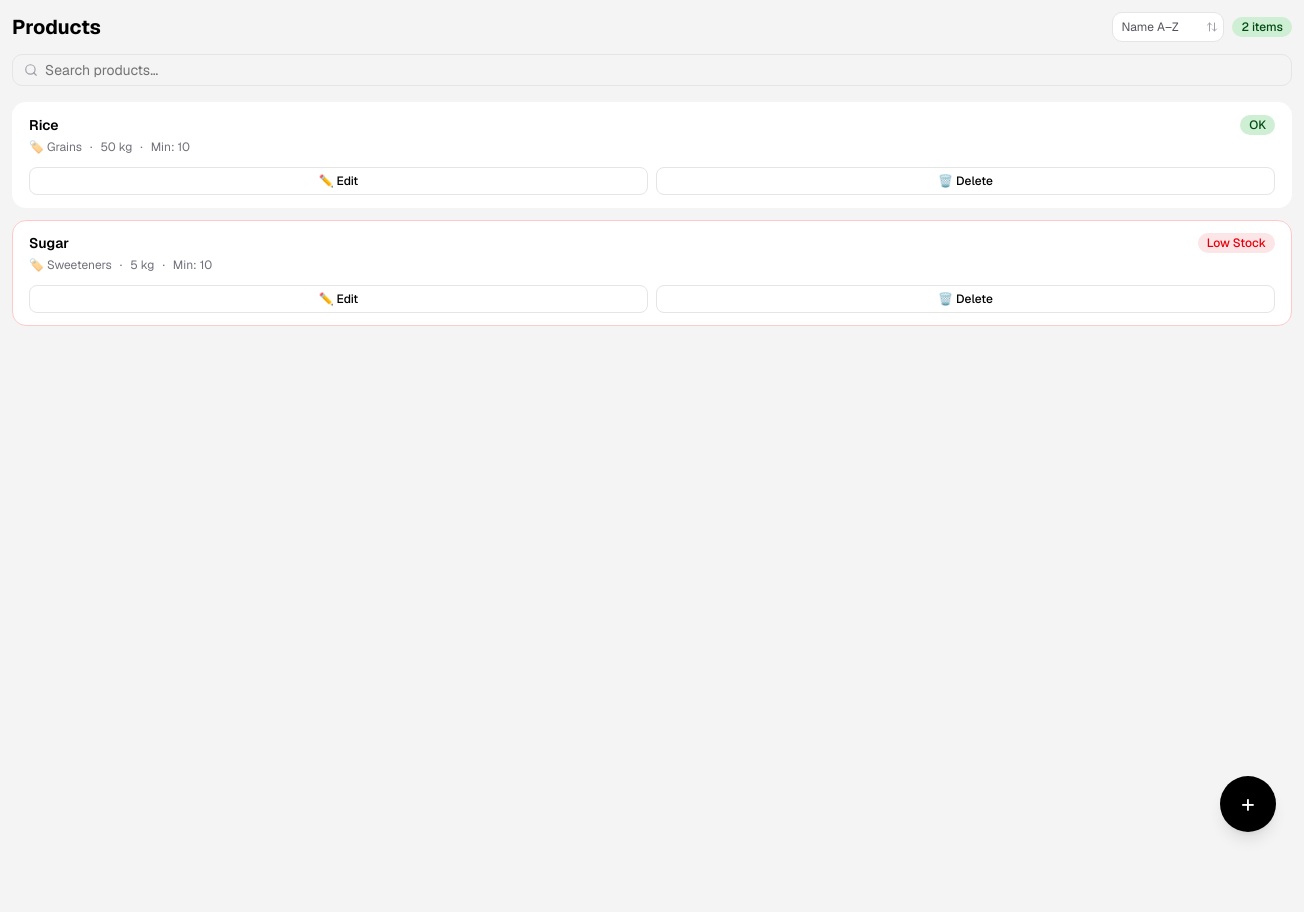
it: ProductsClient CRUD Operations › Search and Sort › filters products by search query
In the field with placeholder "Search products…": (652, 70) [12, 54, 1292, 86], type "rice"
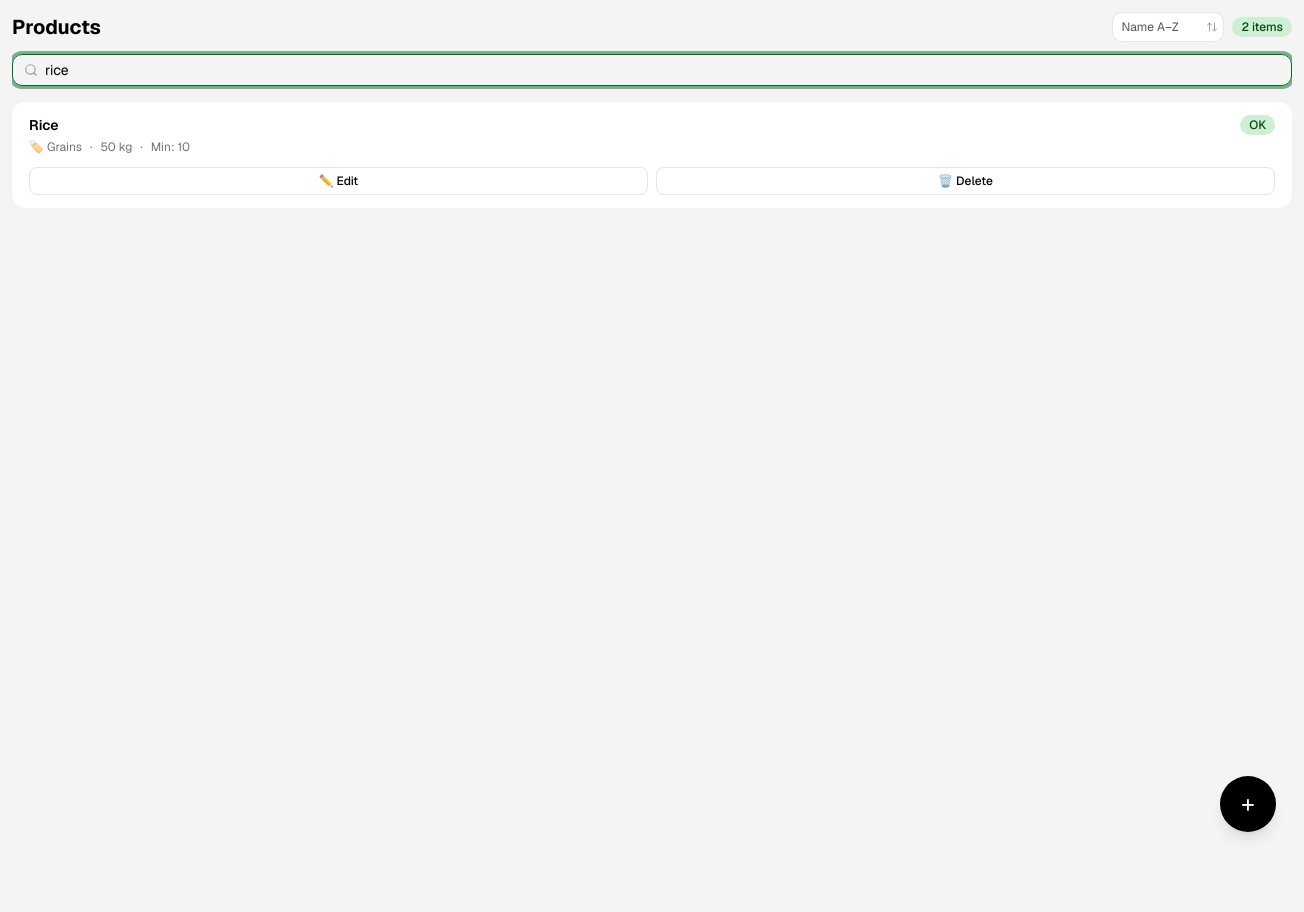
Expected: the text "Rice" is shown, [29, 115, 58, 135]
Result: the text "Sugar" is gone
